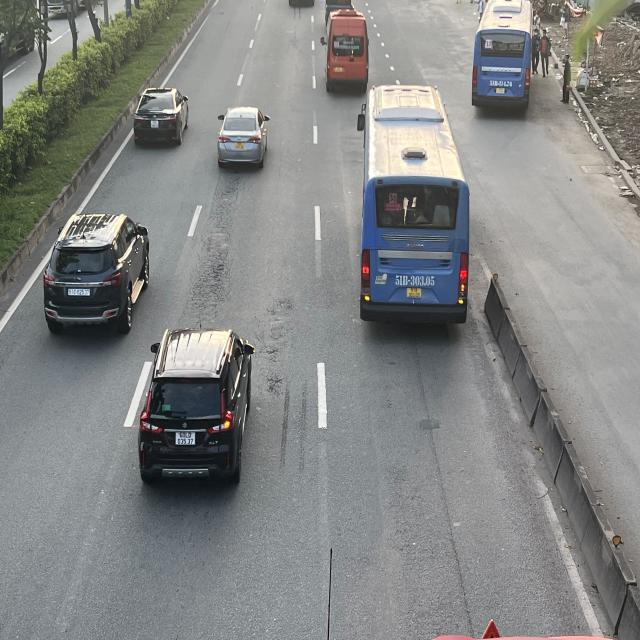car: (137, 329, 257, 490), (41, 214, 150, 336), (136, 88, 194, 149), (215, 107, 269, 169)
coach: (359, 82, 472, 324), (471, 2, 537, 113)
van: (321, 12, 370, 92)
